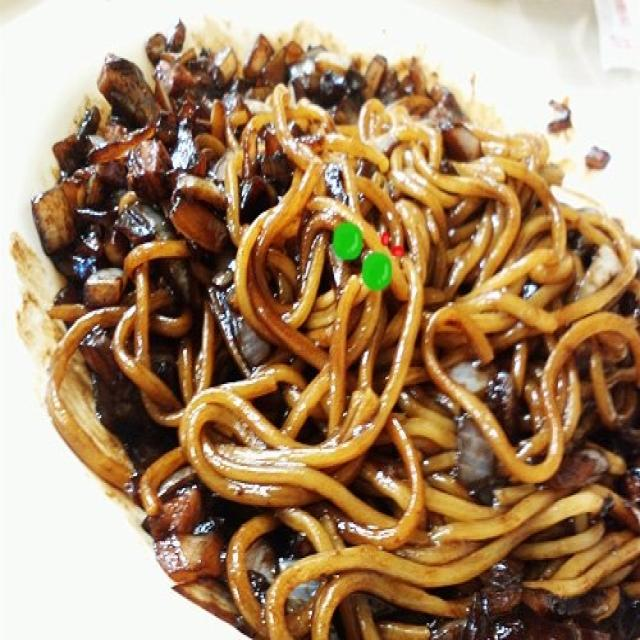面条主食: (8, 12, 635, 626)
